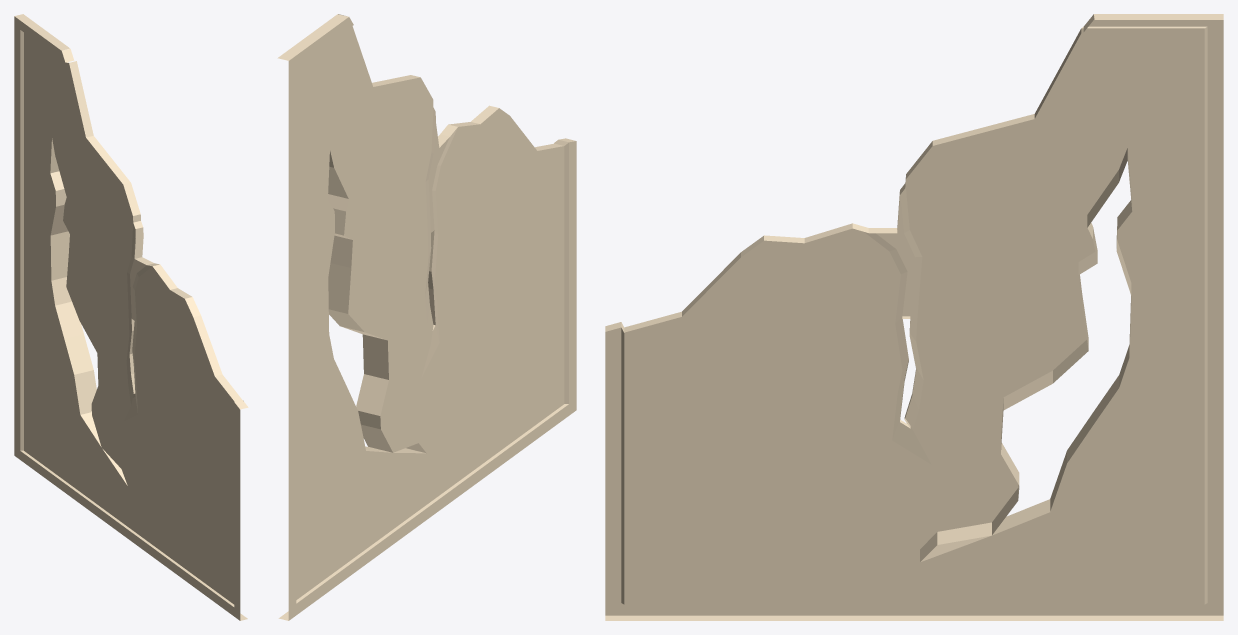
File: Boiserie_Broken02.fbx
The picture shows the model from 3 angles, left to right: view 1: azimuth 30°, elevation 25°; view 2: azimuth 150°, elevation 25°; view 3: azimuth 270°, elevation 25°; orthographic projection. The views are drawn at different scales.
Visible parts, largest first — view 1: Cube.039; view 2: Cube.039; view 3: Cube.039.
Boxes of the visible parts, box(x1,y1,x2,y2) form: Cube.039: box(14, 14, 248, 620); Cube.039: box(277, 14, 576, 620); Cube.039: box(605, 14, 1223, 620).
Size of the model in its own units: 11.31 by 212 by 198.
